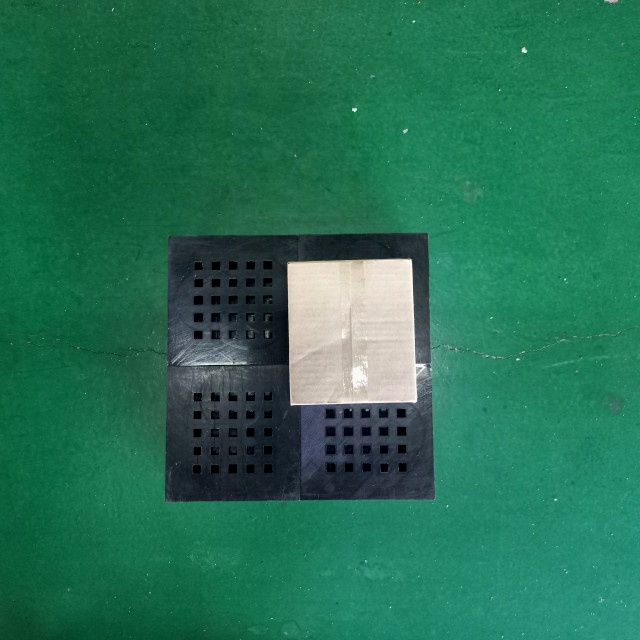box: (287, 256, 417, 405)
pallet: (161, 234, 433, 504)
